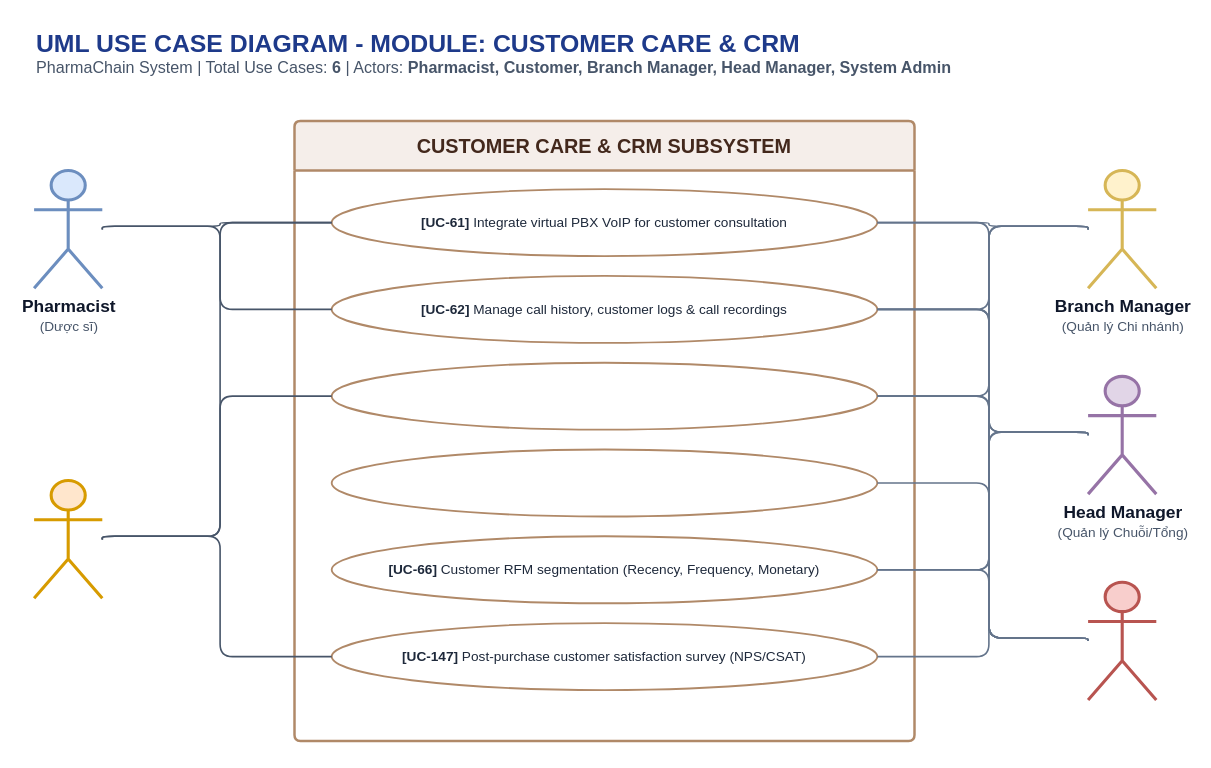
Some shapes in this 1211 by 768 pixel diagram are drawn without their labels. The shapes that lost their labels are listed below. From the top down, each one's centre as x and y in pixels, then its label:
At (604,395): "[UC-64] Customer feedback, ticketing & complaint resolution".
At (604,482): "[UC-65] Manage membership tiers (Bronze, Silver, Gold, Platinum)".
At (67,538): "Customer (Khách hàng)".
At (1121,640): "System Admin (Quản trị hệ thống)".
